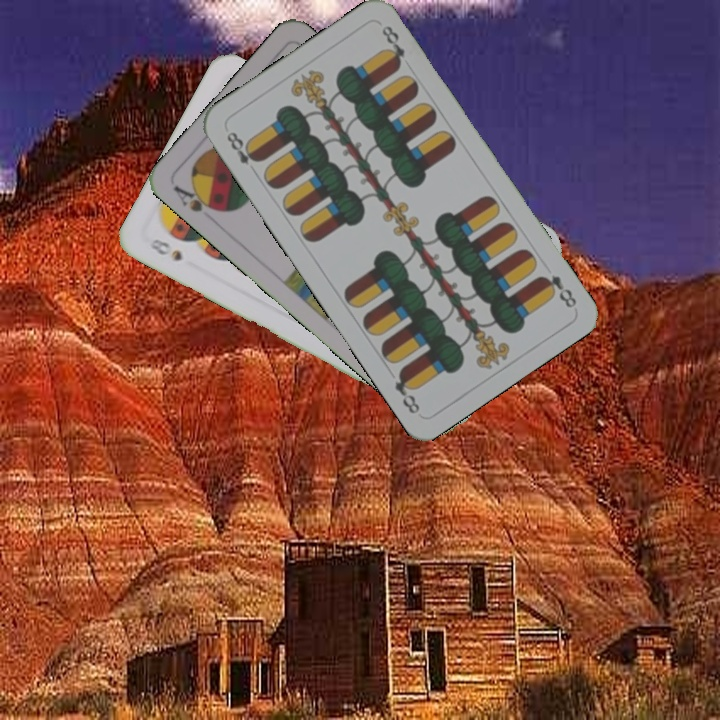E8: (222, 127, 263, 177), (535, 271, 580, 311)
S8: (145, 235, 185, 264)
SA: (168, 180, 225, 215)
